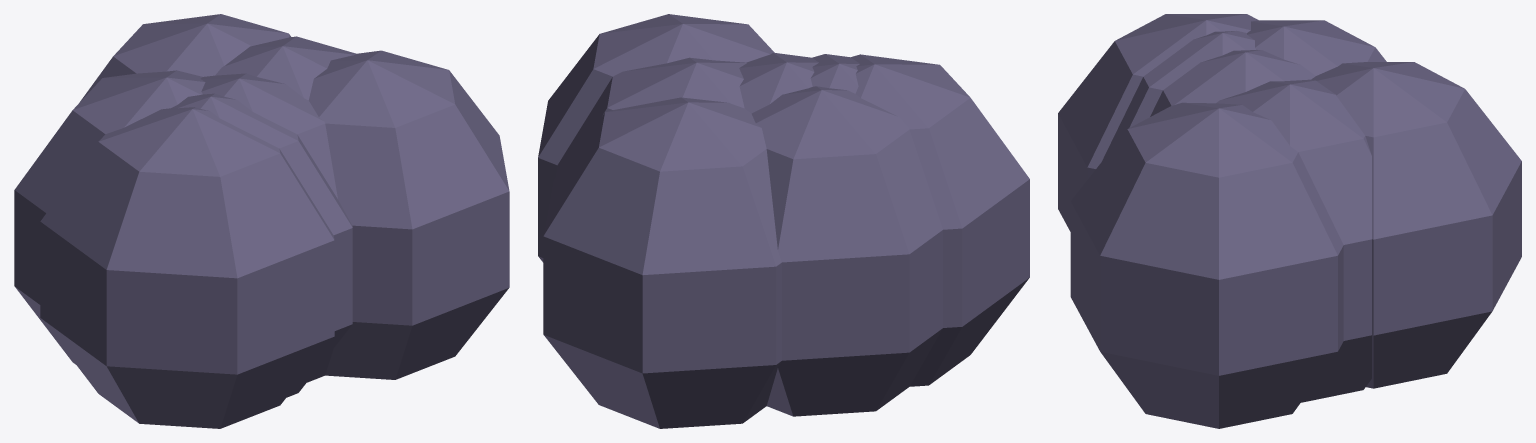
File: vegetation-alien-bush.lod0.glb
3 renders of one model, left to right at view 1: azimuth 30°, elevation 25°; view 2: azimuth 150°, elevation 25°; view 3: azimuth 270°, elevation 25°, orthographic. The views are drawn at different scales.
Parts seen in each view (by area): view 1: vegetation-alien-bush__body; view 2: vegetation-alien-bush__body; view 3: vegetation-alien-bush__body.
Boxes of the visible parts, x1,y1,x2,y2 form: vegetation-alien-bush__body: (14,14,509,428); vegetation-alien-bush__body: (538,14,1029,428); vegetation-alien-bush__body: (1058,14,1521,428).
Size of the model in its own units: 1.31 by 0.9 by 1.22.
